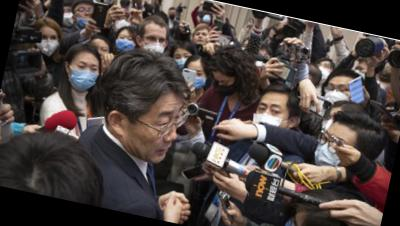mask_weared_incorrect: (74, 1, 96, 28)
with_mask: (310, 128, 353, 173), (249, 97, 293, 139), (65, 57, 102, 96), (33, 29, 63, 60), (322, 80, 353, 108), (280, 204, 316, 226), (183, 65, 210, 94), (210, 76, 240, 100), (140, 32, 167, 55), (114, 31, 139, 53), (312, 59, 333, 85), (170, 49, 193, 71), (319, 112, 338, 135), (60, 6, 79, 28), (114, 14, 134, 33), (353, 63, 368, 81), (201, 12, 213, 24), (167, 9, 178, 20), (247, 18, 255, 26)
without_mask: (118, 91, 187, 168), (87, 41, 112, 65), (193, 28, 210, 47)
